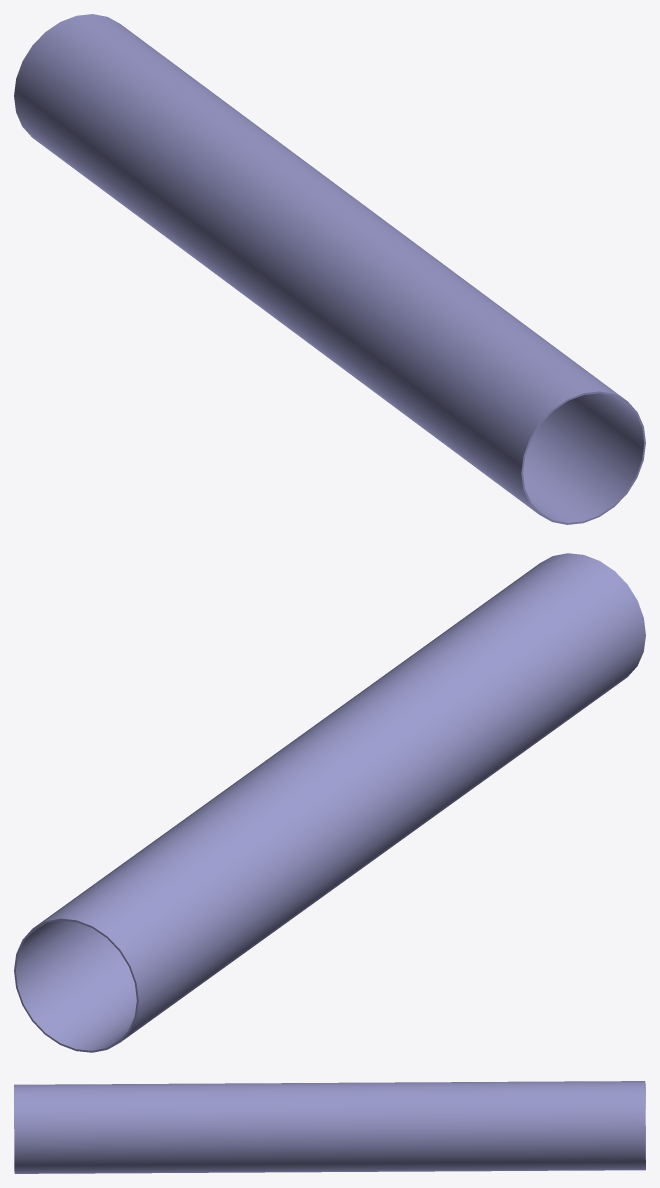
Rendered from EDCGDCBPipe1Pipe.gltf.
The picture shows the model from 3 angles, top to bottom: view 1: azimuth 30°, elevation 25°; view 2: azimuth 150°, elevation 25°; view 3: azimuth 270°, elevation 25°; orthographic projection. The views are drawn at different scales.
Visible parts, largest first — view 1: logicEDCGDCBPipe1Pipe_pv0x223d0c0; view 2: logicEDCGDCBPipe1Pipe_pv0x223d0c0; view 3: logicEDCGDCBPipe1Pipe_pv0x223d0c0.
Part boxes in pixels (x1,y1,x2,y2): logicEDCGDCBPipe1Pipe_pv0x223d0c0: (14, 14, 645, 524); logicEDCGDCBPipe1Pipe_pv0x223d0c0: (14, 553, 645, 1052); logicEDCGDCBPipe1Pipe_pv0x223d0c0: (14, 1081, 645, 1173).
Size of the model in its own units: 33.2 by 34.72 by 234.
